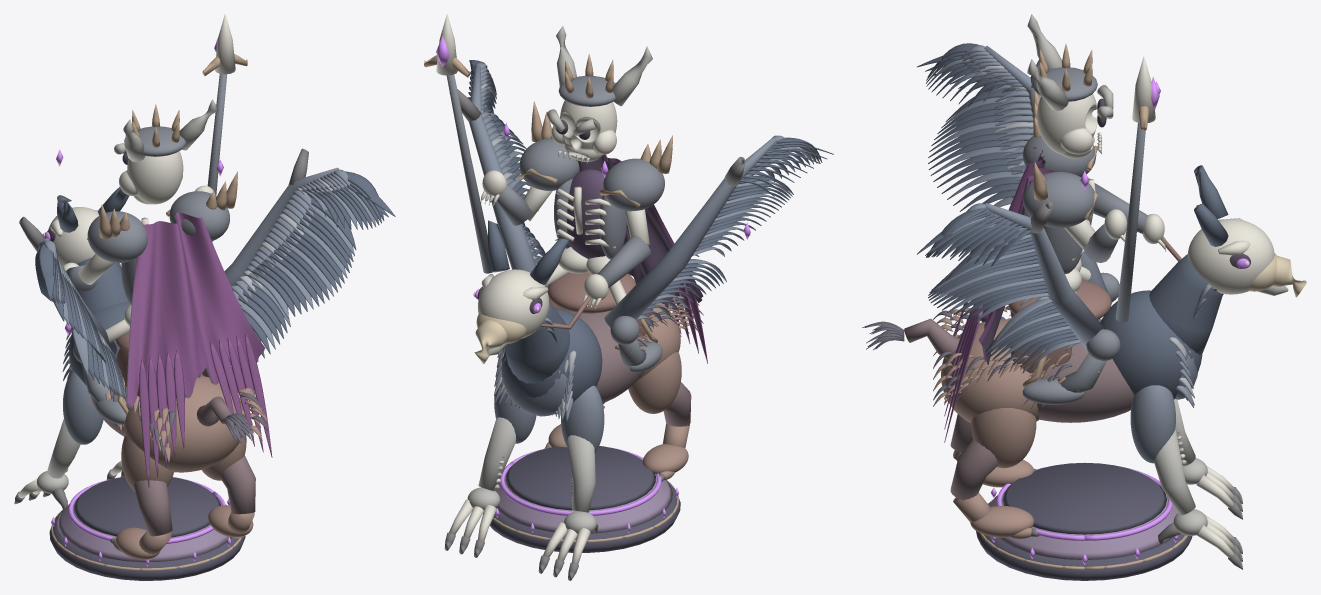
Rendered from cavalier_griffon.fbx.
3 views of the same model, side by side, from view 1: azimuth 30°, elevation 25°; view 2: azimuth 150°, elevation 25°; view 3: azimuth 270°, elevation 25° (orthographic). The views are drawn at different scales.
Parts seen in each view (by area): view 1: RIDER_CAPE_DAMAGED_1, CHESS_PEDESTAL_CAP, GRIFFON_LION_HAUNCHES, CHESS_PEDESTAL_LOWER, CHESS_PEDESTAL_BEVEL, RIDER_SKULL_SCULPTED, FORE_UPPER_-1, RIDER_PAULDRON_-1, WING_BONE_1, RIDER_PAULDRON_1, HIND_HOCK_-1, GRIFFON_HEAD_CRANIUM (+30 smaller); view 2: CHESS_PEDESTAL_CAP, WING_BONE_-1, CHESS_PEDESTAL_BEVEL, GRIFFON_EAGLE_CHEST, CHESS_PEDESTAL_LOWER, GRIFFON_HEAD_CRANIUM, GRIFFON_NECK_MAIN, WING_BONE_1, RIDER_SKULL_SCULPTED, RIDER_PAULDRON_-1, GRIFFON_LION_TORSO, RIDER_PAULDRON_1 (+34 smaller); view 3: CHESS_PEDESTAL_CAP, GRIFFON_EAGLE_CHEST, CHESS_PEDESTAL_LOWER, GRIFFON_NECK_MAIN, GRIFFON_LION_HAUNCHES, GRIFFON_HEAD_CRANIUM, GRIFFON_LION_TORSO, CHESS_PEDESTAL_BEVEL, WING_BONE_1, HIND_THIGH_1, RIDER_SKULL_SCULPTED, FORE_UPPER_1 (+30 smaller).
Boxes of the visible parts, x1,y1,x2,y2 form: RIDER_CAPE_DAMAGED_1: (127, 212, 265, 406); CHESS_PEDESTAL_CAP: (74, 476, 220, 537); GRIFFON_LION_HAUNCHES: (124, 375, 243, 472); CHESS_PEDESTAL_LOWER: (49, 510, 245, 580); CHESS_PEDESTAL_BEVEL: (57, 495, 231, 562); RIDER_SKULL_SCULPTED: (119, 151, 183, 204); FORE_UPPER_-1: (63, 371, 103, 444); RIDER_PAULDRON_-1: (87, 211, 147, 262); WING_BONE_1: (224, 167, 338, 286); RIDER_PAULDRON_1: (169, 191, 229, 240); HIND_HOCK_-1: (134, 480, 172, 536); GRIFFON_HEAD_CRANIUM: (48, 207, 99, 265); CHESS_PEDESTAL_CAP: (505, 446, 655, 510); WING_BONE_-1: (604, 137, 776, 327); CHESS_PEDESTAL_BEVEL: (495, 469, 672, 533); GRIFFON_EAGLE_CHEST: (501, 308, 602, 414); CHESS_PEDESTAL_LOWER: (483, 480, 680, 552); GRIFFON_HEAD_CRANIUM: (478, 269, 549, 338); GRIFFON_NECK_MAIN: (505, 302, 569, 383); WING_BONE_1: (469, 65, 536, 272); RIDER_SKULL_SCULPTED: (551, 100, 617, 161); RIDER_PAULDRON_-1: (603, 158, 664, 211); GRIFFON_LION_TORSO: (563, 309, 648, 402); RIDER_PAULDRON_1: (519, 138, 579, 190); CHESS_PEDESTAL_CAP: (1002, 462, 1166, 534); GRIFFON_EAGLE_CHEST: (1100, 290, 1202, 399); CHESS_PEDESTAL_LOWER: (976, 502, 1192, 580); GRIFFON_NECK_MAIN: (1149, 254, 1223, 355); GRIFFON_LION_HAUNCHES: (941, 319, 1039, 422); GRIFFON_HEAD_CRANIUM: (1187, 219, 1274, 294); GRIFFON_LION_TORSO: (1031, 319, 1134, 422); CHESS_PEDESTAL_BEVEL: (989, 487, 1177, 559); WING_BONE_1: (984, 203, 1105, 349); HIND_THIGH_1: (971, 408, 1036, 468); RIDER_SKULL_SCULPTED: (1037, 94, 1097, 158); FORE_UPPER_1: (1130, 385, 1175, 463).
Size of the model in its own units: 143 by 190 by 143.
